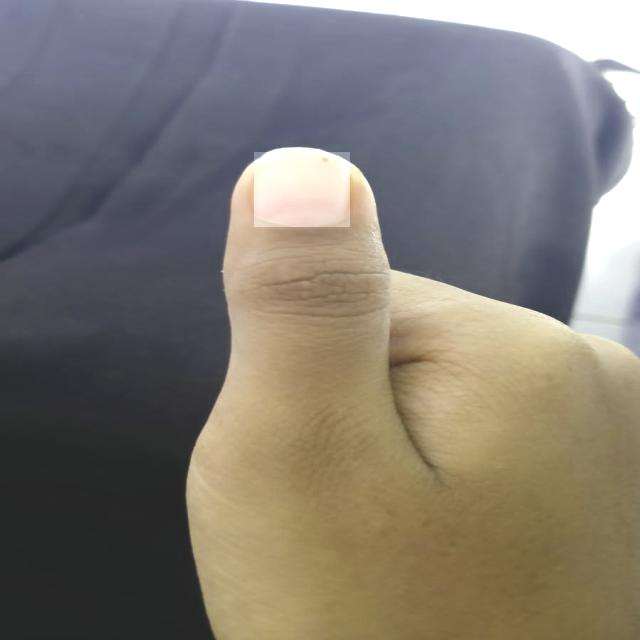sehat: (254, 152, 350, 227)
